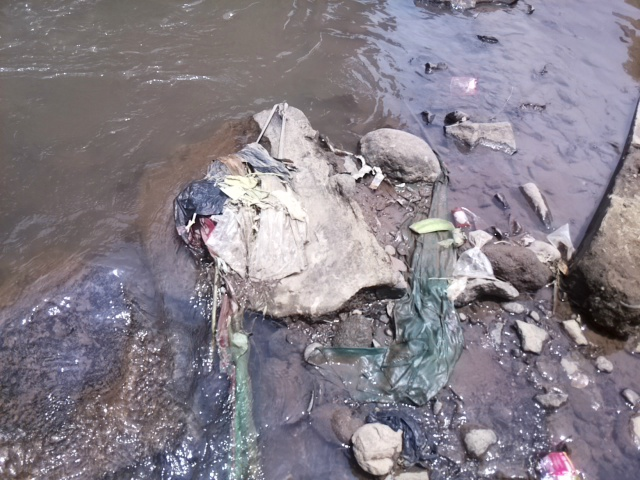Sampah_Plastik: (170, 169, 234, 248), (526, 453, 576, 480)
